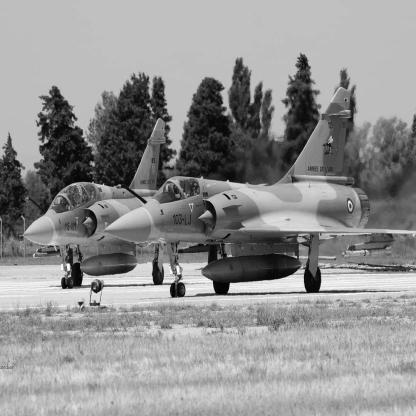Mirage2000: (99, 88, 416, 299), (20, 119, 227, 290)
